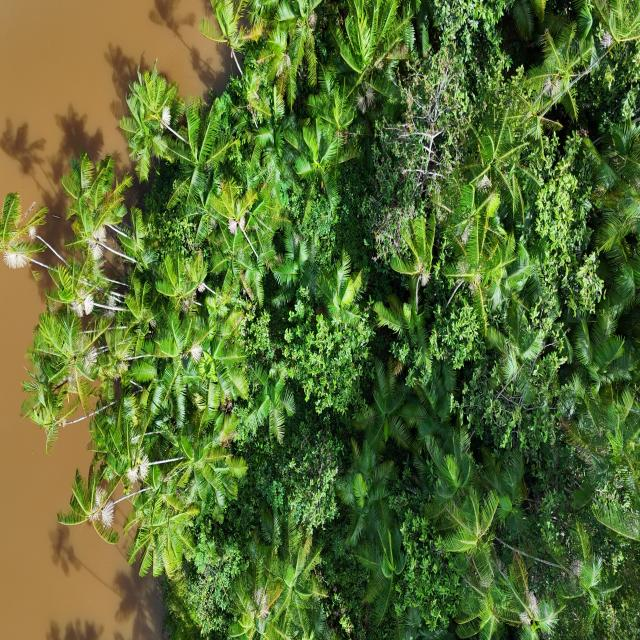vegetation: (1, 1, 638, 638)
